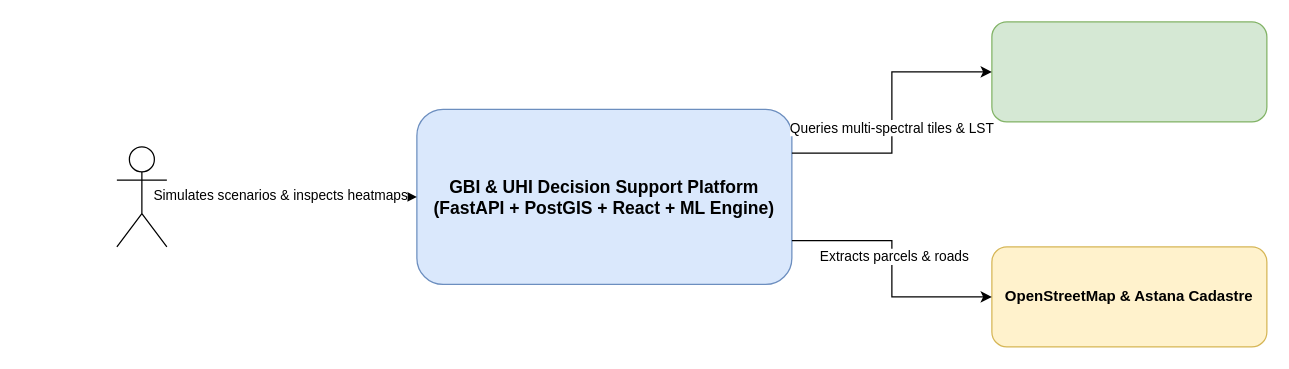
This 1289x369 diagram has some shape labels left out. Each missing label, with the centre of its shape:
"Satellite APIs (Google Earth Engine / Sentinel Hub)" goes at pixel 1129 71.
"Urban Planner / Municipal Specialist" goes at pixel 141 196.
